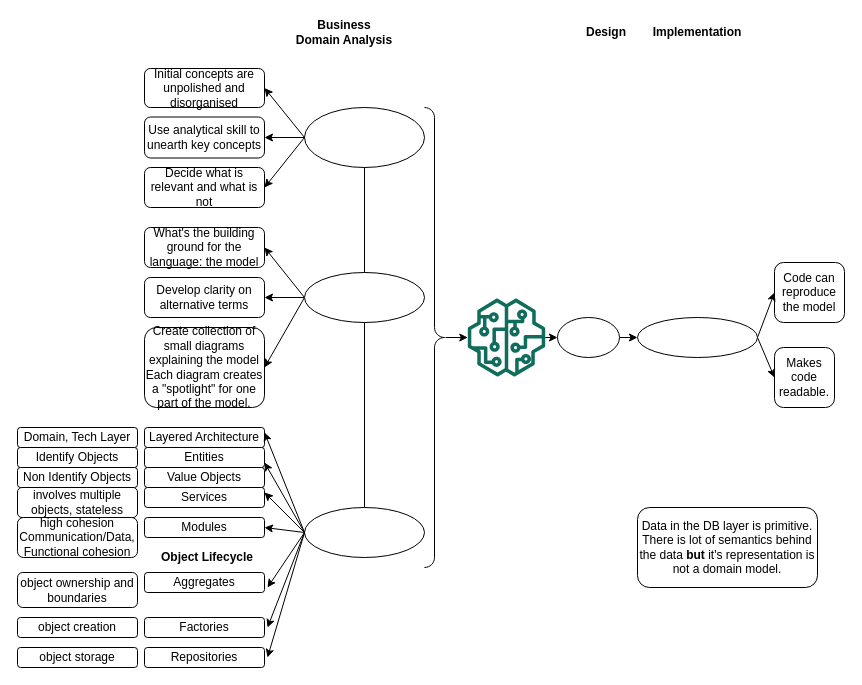
This 862x685 diagram has some shape labels left out. The shapes that lost their labels are listed below. From the top down, each one's box as (x1, y1, x2, y2) in pixels, then its label:
(304, 106, 424, 168): Building Domain Knowledge
(304, 272, 424, 322): Developing the ubiquitous language
(467, 298, 545, 376): Analysis Model
(636, 316, 758, 358): Implement model concepts in code
(304, 506, 424, 558): Building Blocks of Model Drive Design
